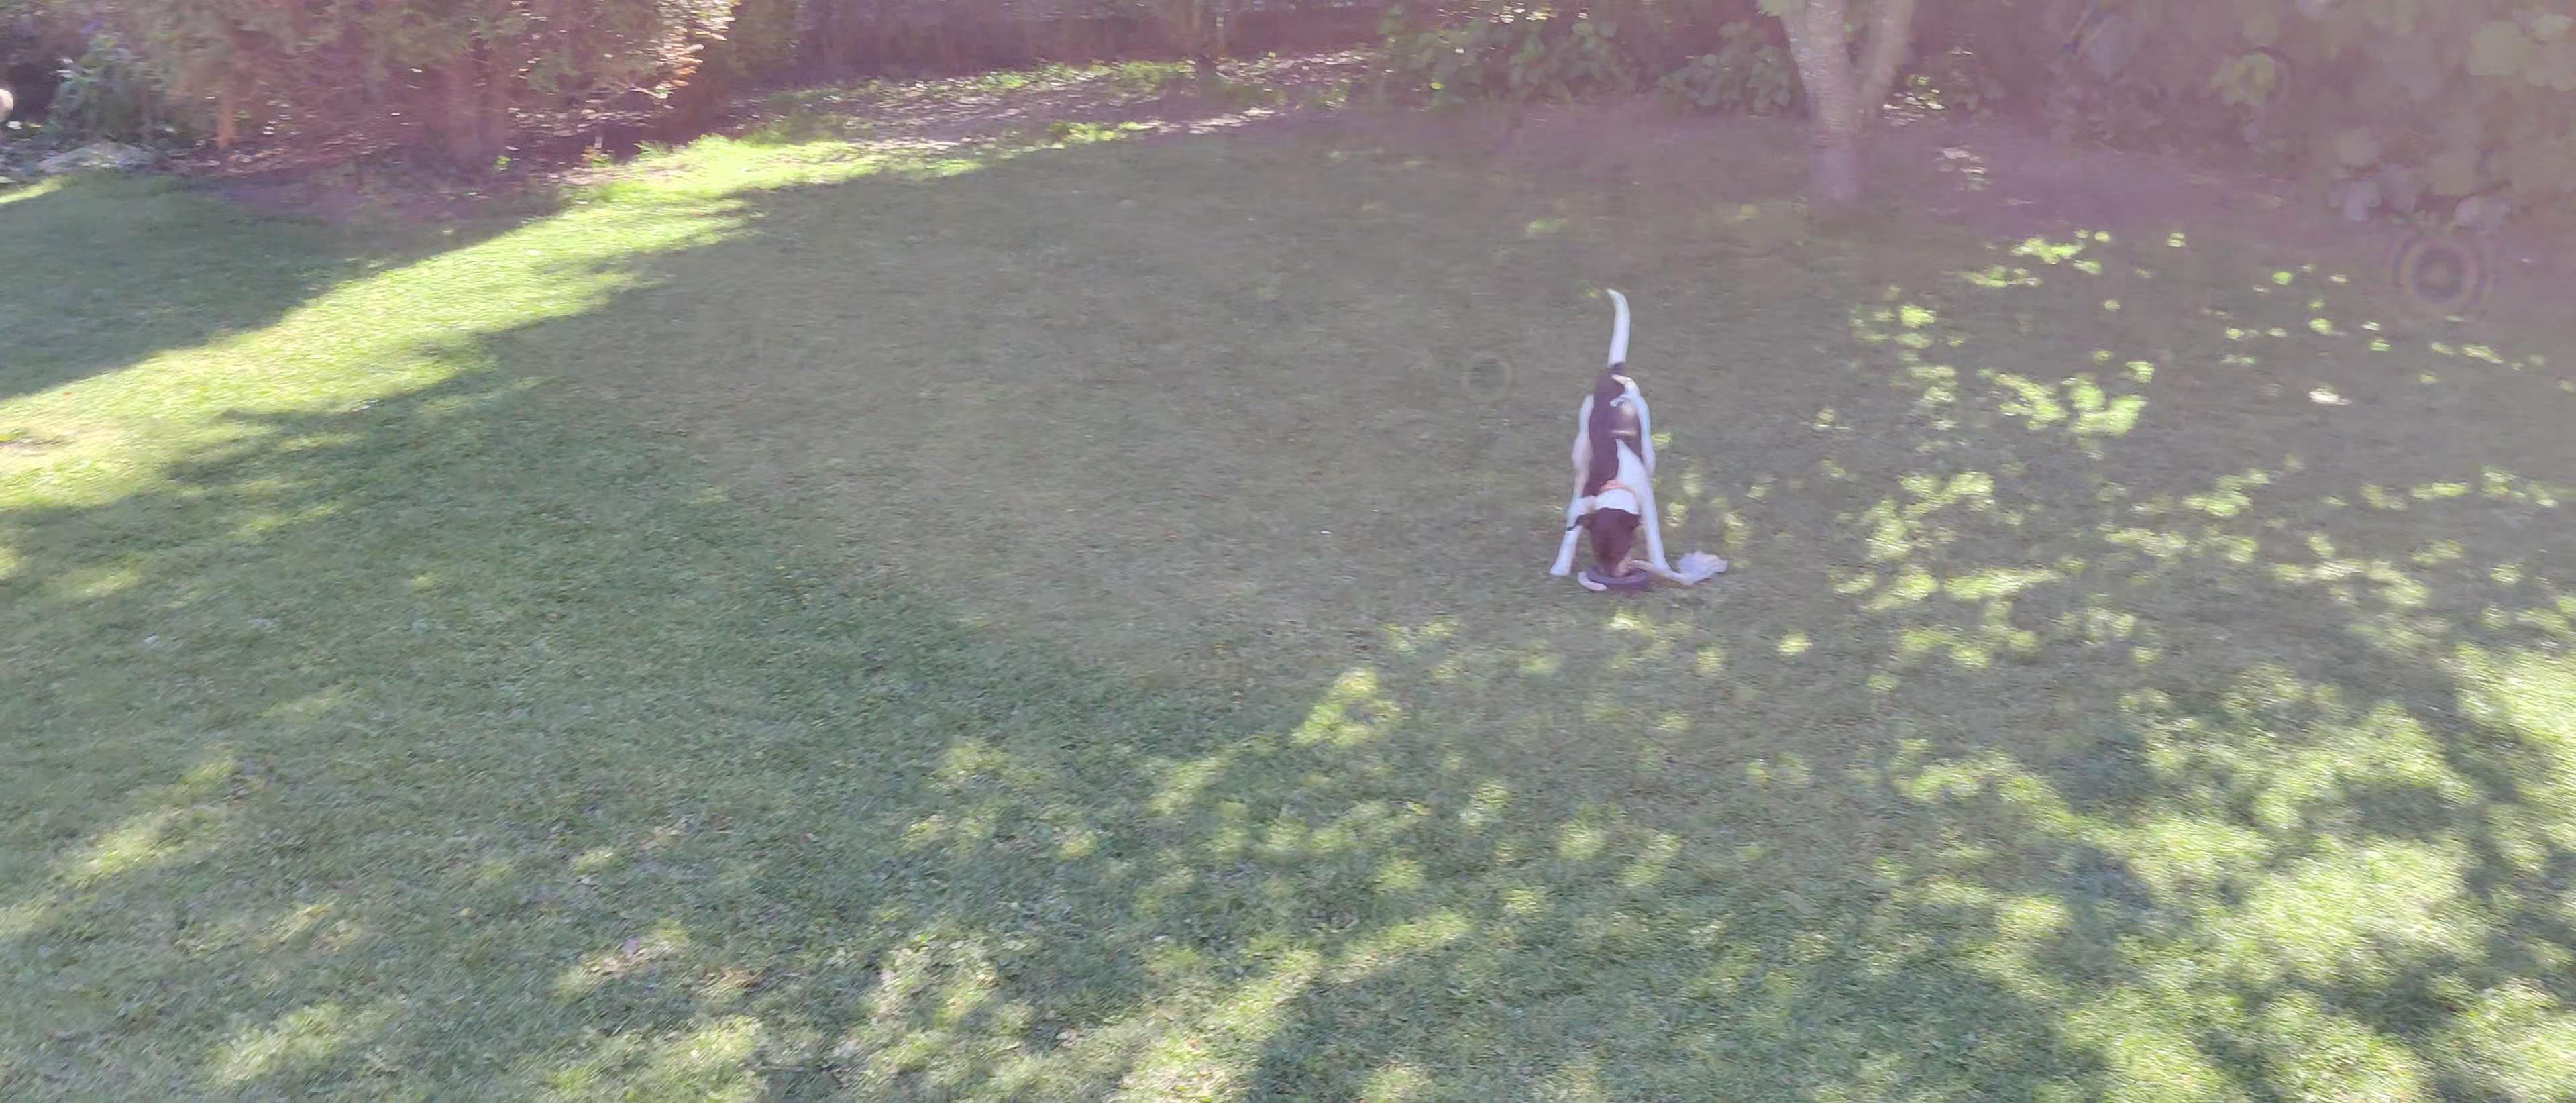Dog: (1536, 278, 1679, 585)
